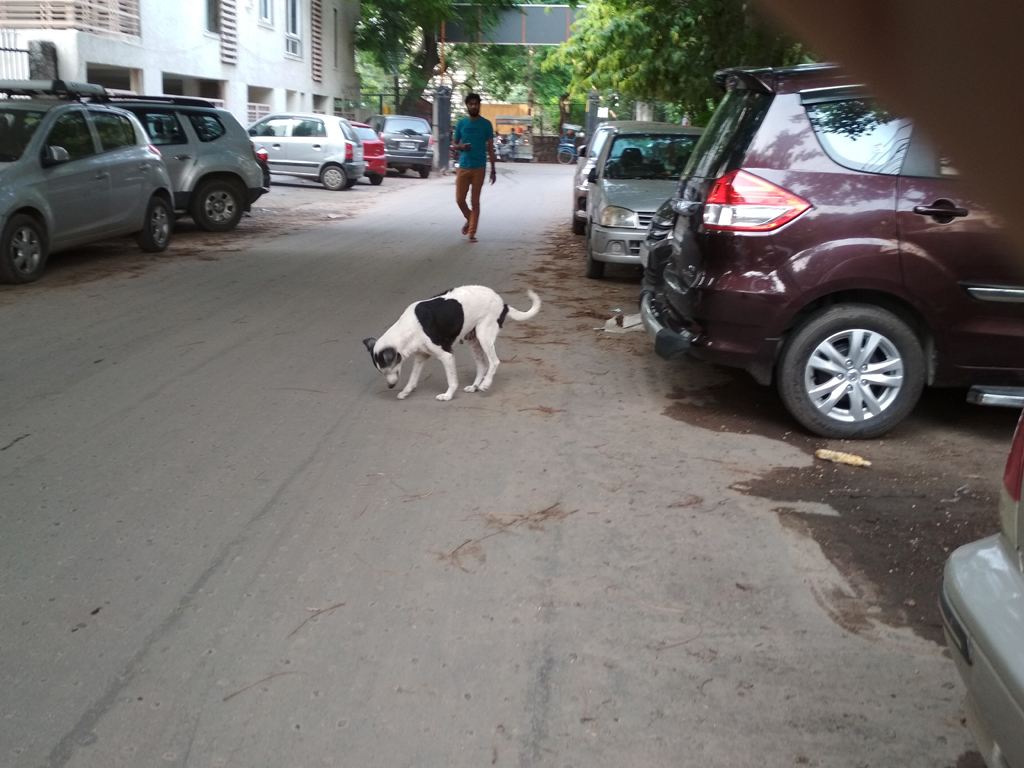dog: (362, 284, 541, 402)
